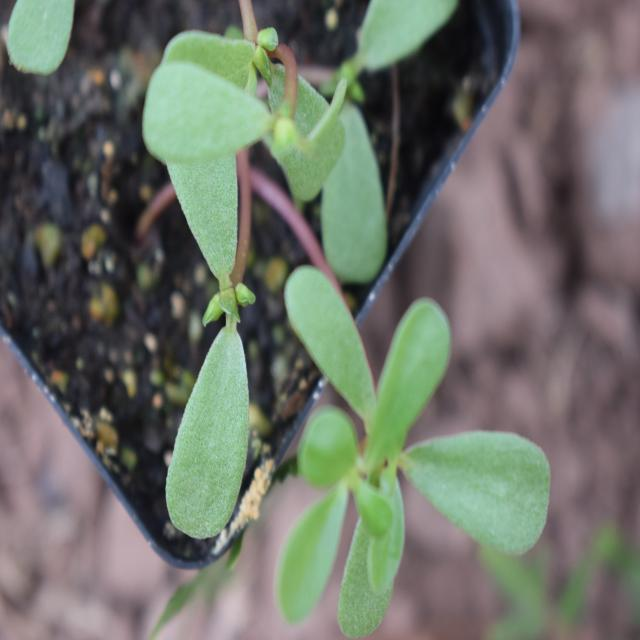purslane: (147, 30, 557, 624)
